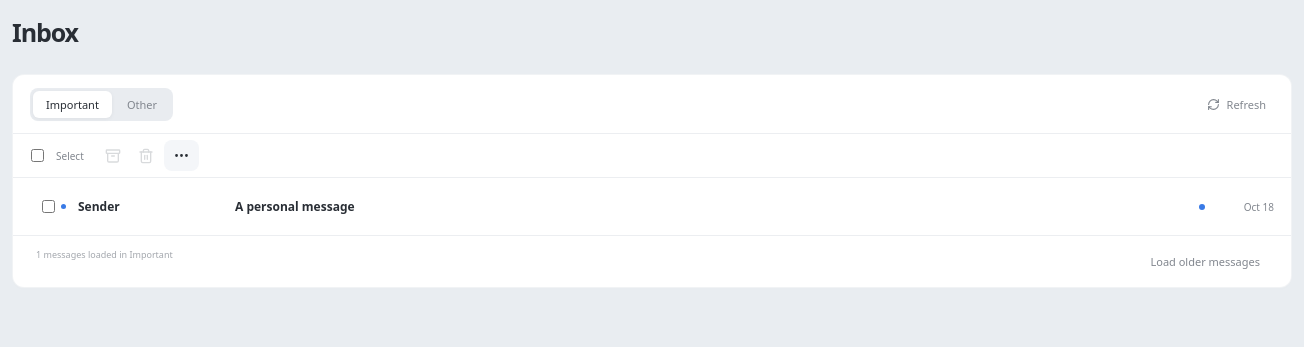
Test: personal Outlook reader › does not mark failed body loads as read and leaves denied updates unread
Click the button with class "row-main": (99,206) x1=58 y1=178 x2=1274 y2=235
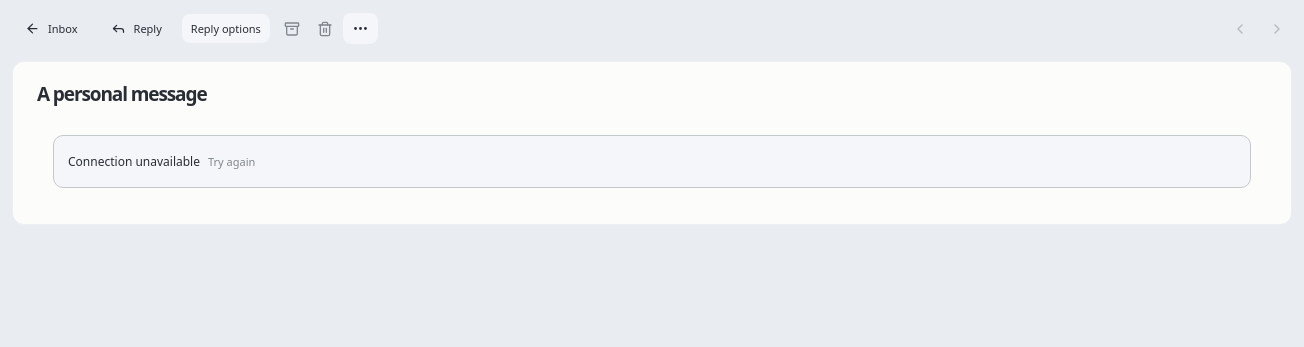
Click the button "Inbox": (51,28) x1=12 y1=12 x2=90 y2=45
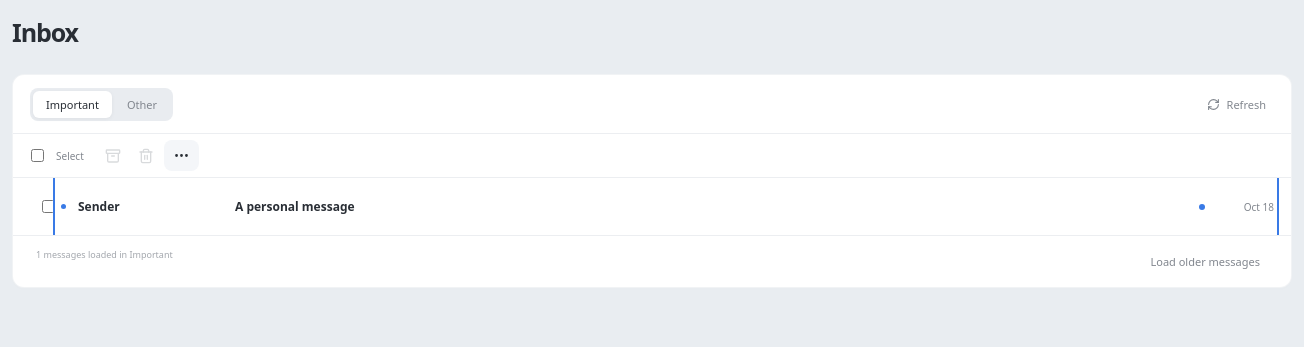
Click the button with class "row-main": (99,206) x1=58 y1=178 x2=1274 y2=235
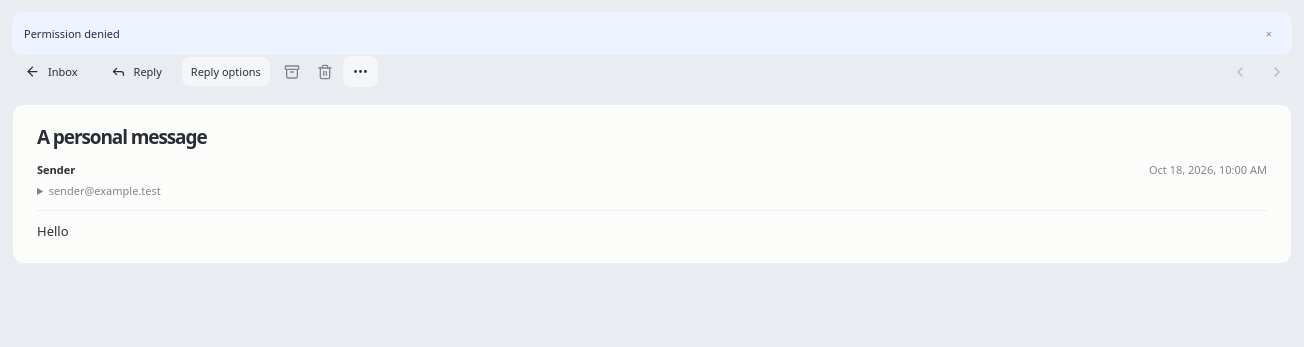
Expected: the text "Permission denied" is shown, x1=24 y1=26 x2=120 y2=41
Click the button "Inbox": (51,72) x1=12 y1=55 x2=90 y2=88
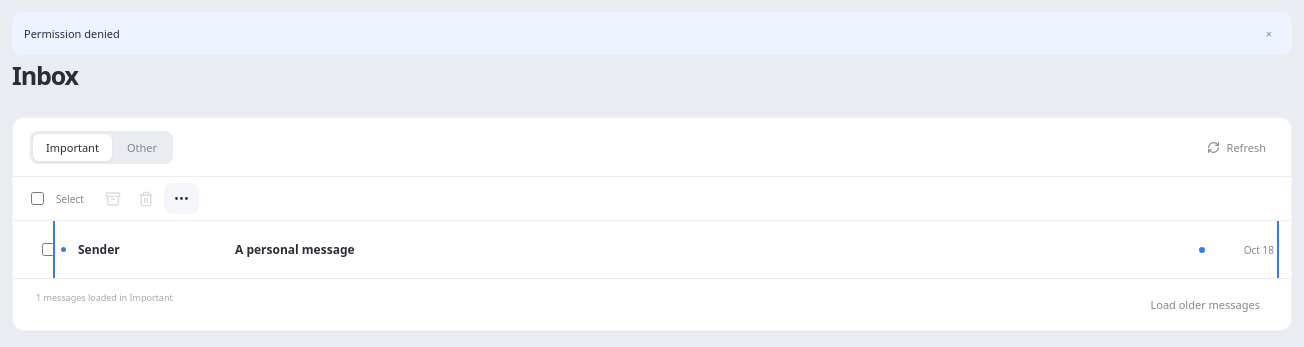
Expected: the element with class "unread" is shown, x1=13 y1=221 x2=1291 y2=278
